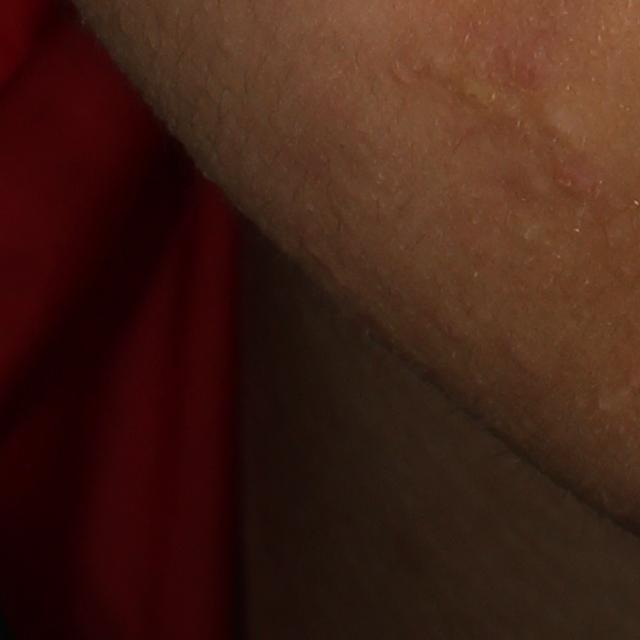comedo: (549, 163, 603, 211), (546, 113, 585, 153), (456, 83, 496, 120)
